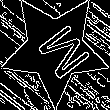M_SW: (22, 16, 88, 83)
